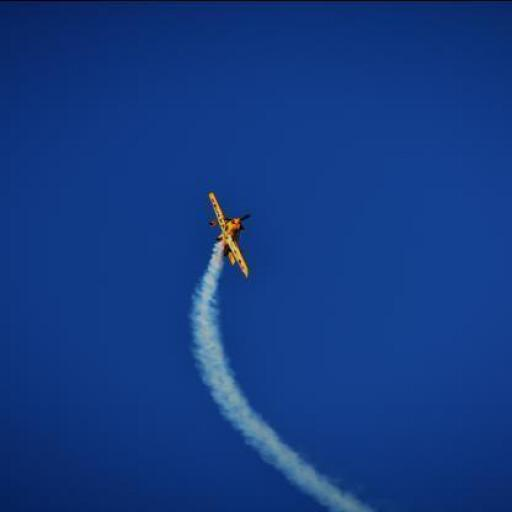aircraft: (206, 185, 252, 283)
